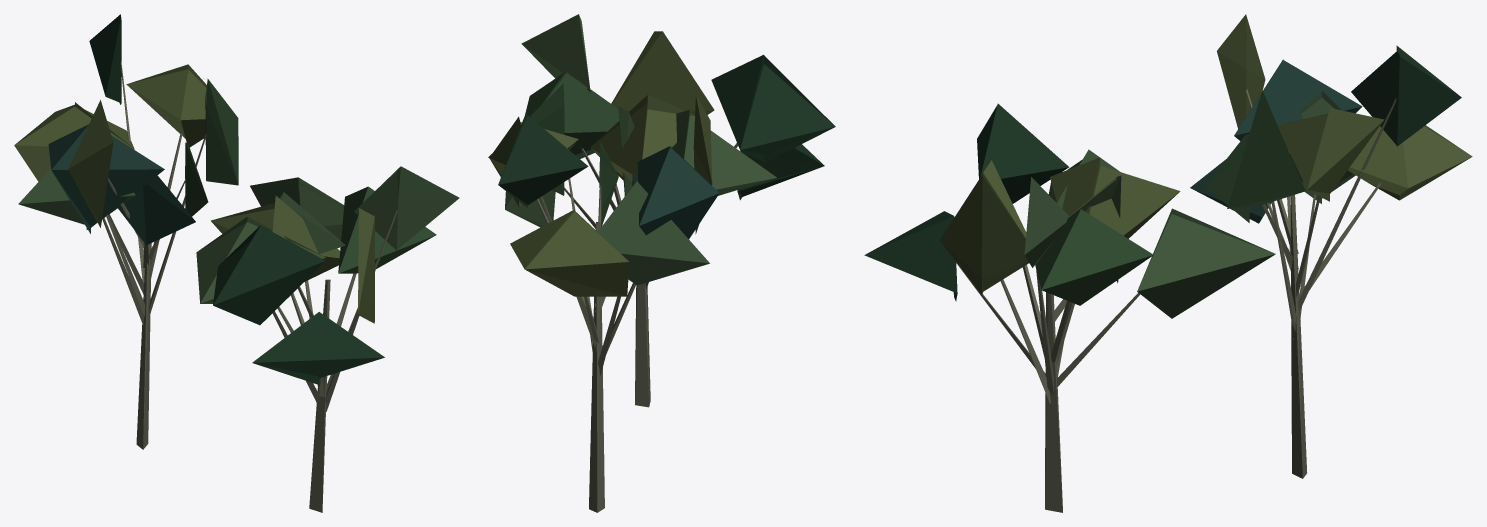
The model's file is forest_25_23.dae.
The picture shows the model from 3 angles, left to right: view 1: azimuth 30°, elevation 25°; view 2: azimuth 150°, elevation 25°; view 3: azimuth 270°, elevation 25°; orthographic projection. The views are drawn at different scales.
Parts seen in each view (by area): view 1: Node; view 2: Node; view 3: Node.
Part boxes in pixels (box(x1,y1,x2,y2)): Node: box(14, 14, 459, 512); Node: box(488, 14, 835, 512); Node: box(864, 14, 1472, 512).
Bounding box in the file's own units: 1.68 × 2.57 × 2.06.
